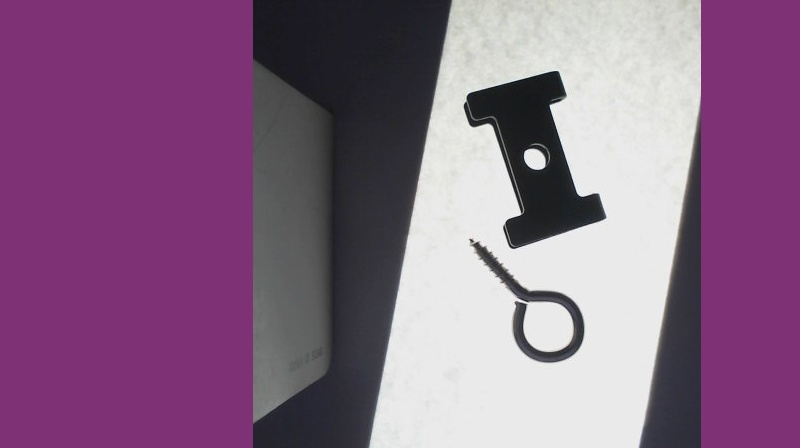O001: (466, 233, 585, 364)
O002: (460, 69, 606, 248)
